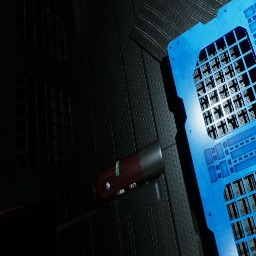NitrogenTank ,: (93, 139, 165, 203)
